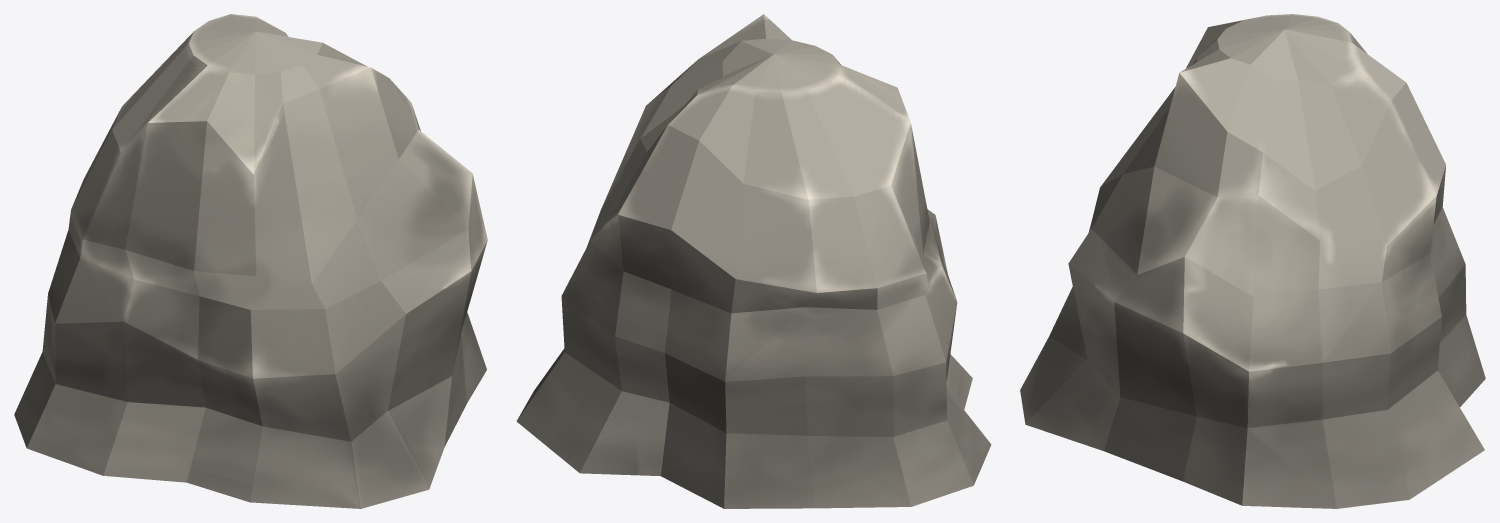
Rendered from crystal_01.glb.
The picture shows the model from 3 angles, left to right: view 1: azimuth 30°, elevation 25°; view 2: azimuth 150°, elevation 25°; view 3: azimuth 270°, elevation 25°; orthographic projection.
Parts seen in each view (by area): view 1: crystal_01; view 2: crystal_01; view 3: crystal_01.
Part boxes in pixels (x1,y1,x2,y2): crystal_01: (14, 14, 487, 508); crystal_01: (516, 14, 991, 508); crystal_01: (1020, 14, 1485, 508).
Bounding box in the file's own units: 1.36 × 1.13 × 1.27.
1 material, 1 textured.
